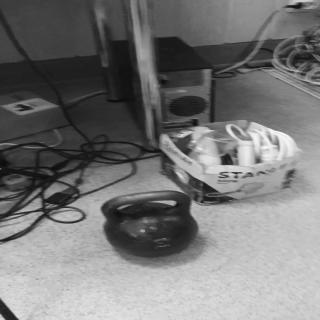kettlebell: (103, 191, 200, 259)
